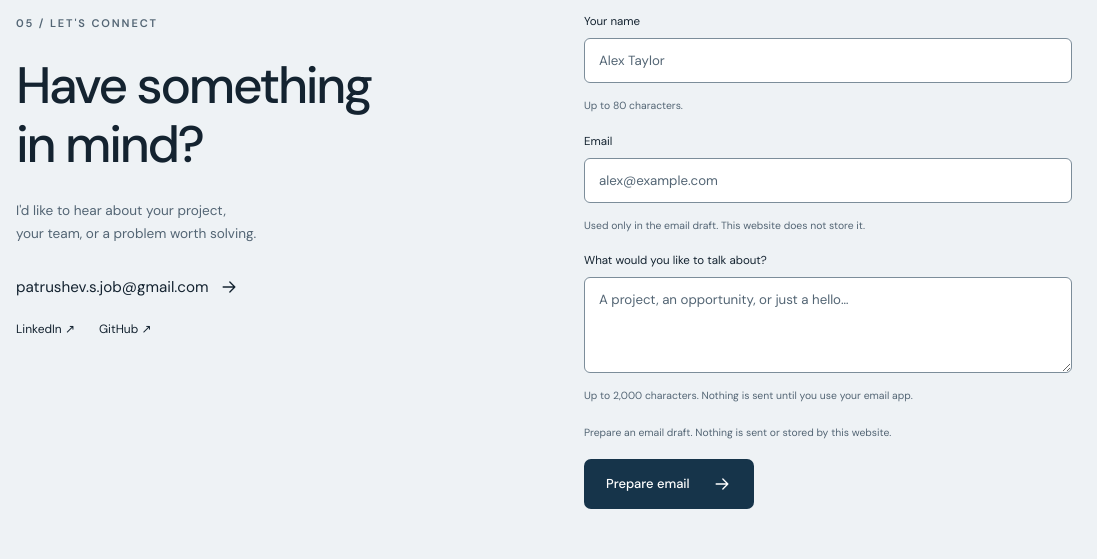
Scenario: exposes helper text, limits, and an associated email validation error
The width and height of the screenshot is (1097, 559).
Type "Alex" into the field labelled "Your name".
click(828, 60); type("Alex")  # box [584, 38, 1072, 83]
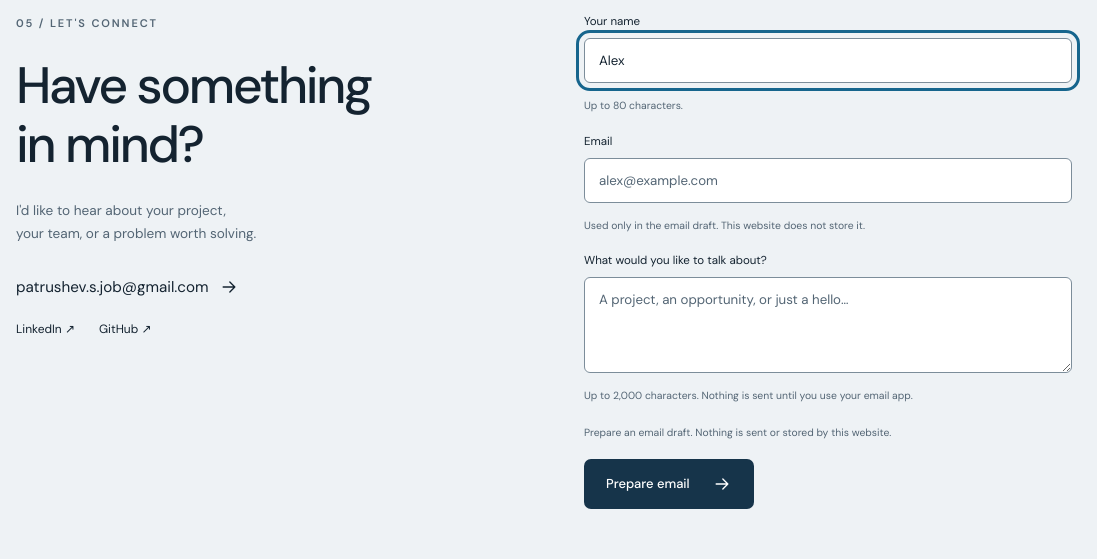
Type "not-an-email" into the field labelled "Email".
click(828, 180); type("not-an-email")  # box [584, 158, 1072, 203]
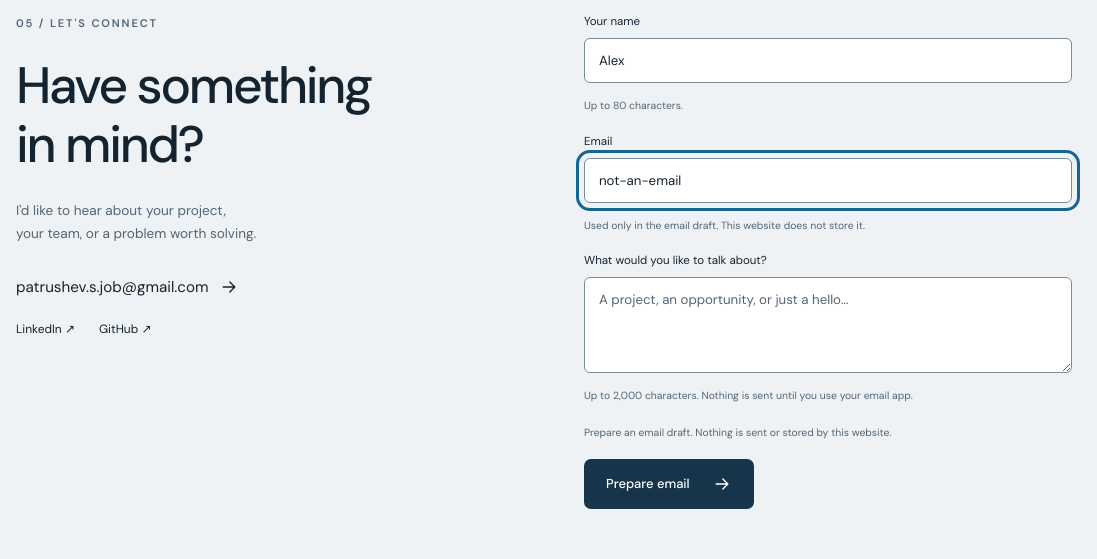
Type "Hello" into the text box labelled "What would you like to talk about?".
click(828, 325); type("Hello")  # box [584, 277, 1072, 373]
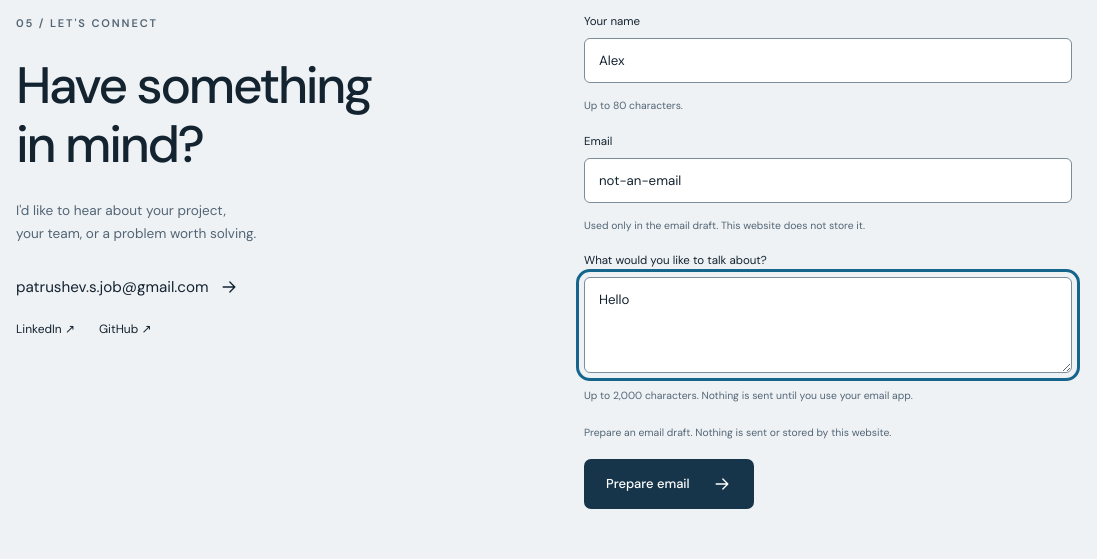
Click the button "Prepare email".
click(669, 484)  # box [584, 459, 754, 509]
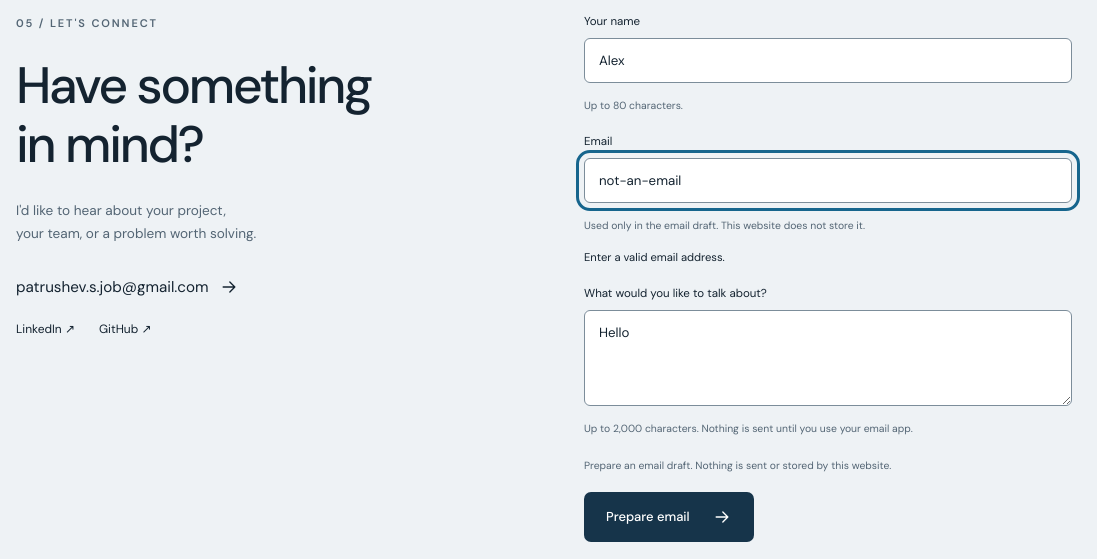
Expected: the message reads "Enter a valid email address.", [584, 250, 725, 264]
